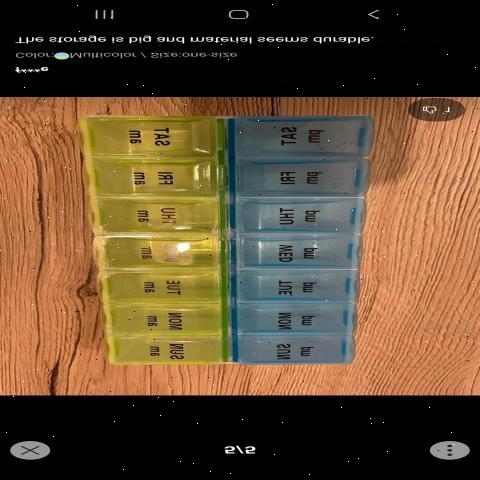PillBox: (80, 102, 390, 390)
